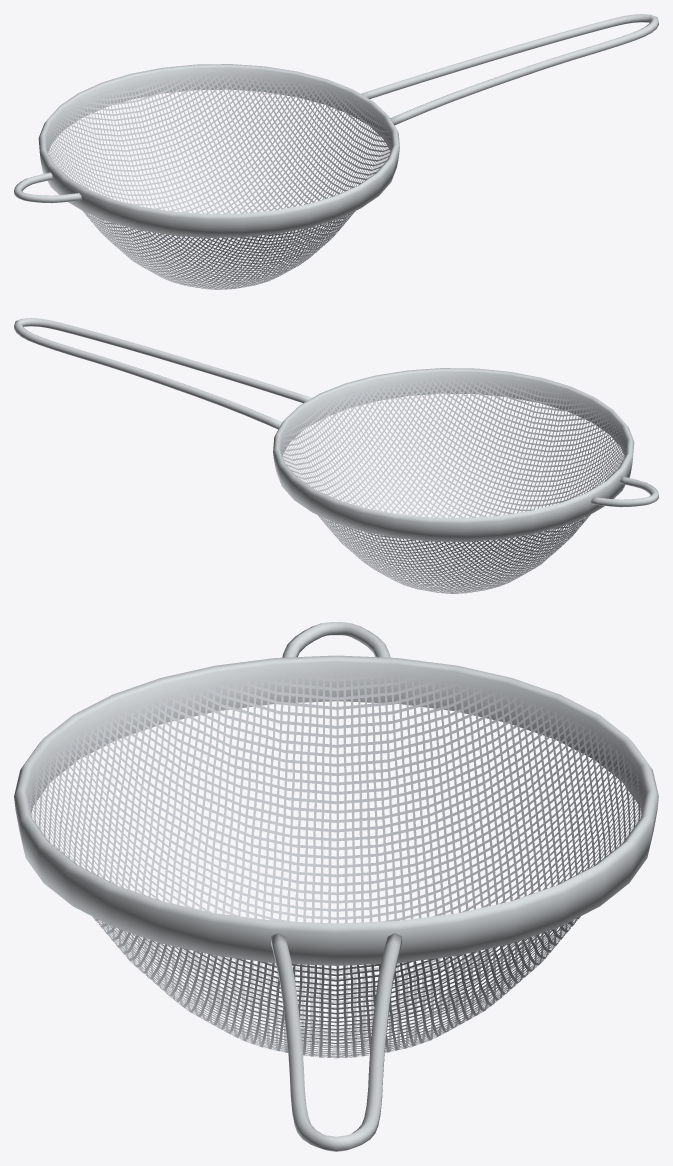
The model's file is item-44.glb.
3 renders of one model, top to bottom at view 1: azimuth 30°, elevation 25°; view 2: azimuth 150°, elevation 25°; view 3: azimuth 270°, elevation 25°, orthographic. The views are drawn at different scales.
Visible parts, largest first — view 1: item_44, rim, handle, ear; view 2: item_44, rim, handle, ear; view 3: item_44, rim, handle, ear.
Part boxes in pixels (x1,y1,x2,y2): item_44: (46, 74, 392, 289); rim: (38, 64, 399, 237); handle: (361, 14, 658, 125); ear: (14, 172, 81, 203); item_44: (280, 378, 626, 593); rim: (273, 368, 634, 541); handle: (14, 318, 311, 429); ear: (591, 476, 658, 507); item_44: (28, 673, 644, 1058); rim: (14, 655, 658, 965); handle: (271, 933, 401, 1151); ear: (282, 622, 390, 657).
Size of the model in its own units: 0.3376 by 0.0776 by 0.1652.
Materials: 2 (1 with a texture image).
